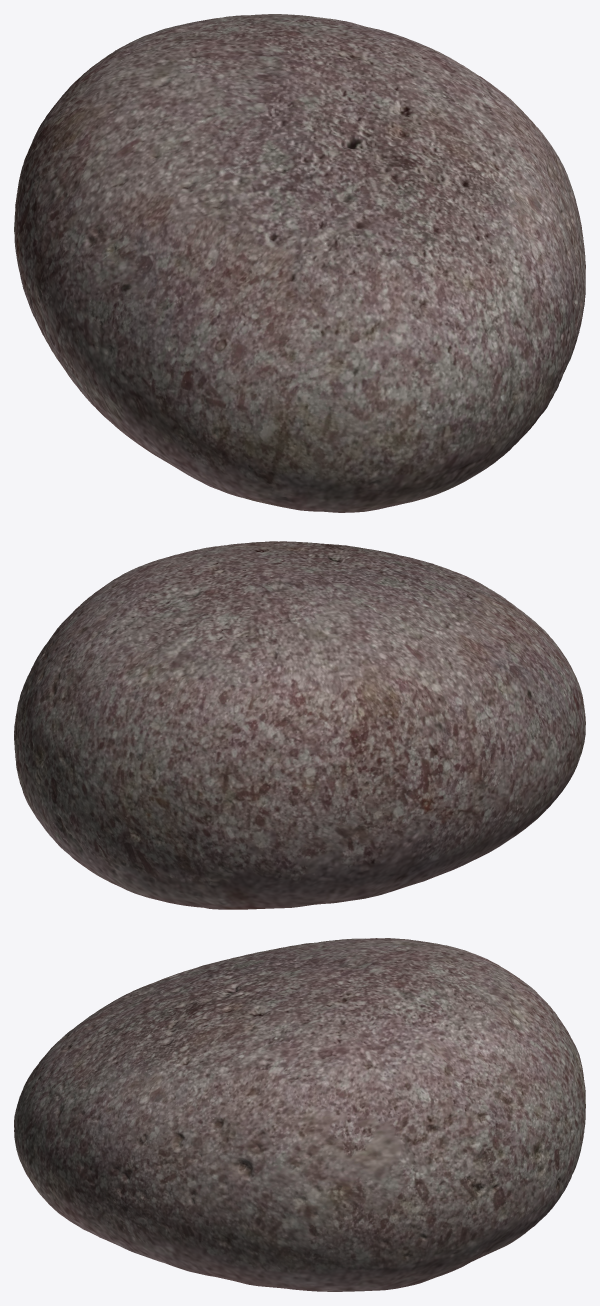
File: rock.glb
3 renders of one model, top to bottom at view 1: azimuth 30°, elevation 25°; view 2: azimuth 150°, elevation 25°; view 3: azimuth 270°, elevation 25°, orthographic. The views are drawn at different scales.
Parts seen in each view (by area): view 1: Object_4; view 2: Object_4; view 3: Object_4.
Part boxes in pixels (x1=…): Object_4: x1=14, y1=14, x2=585, y2=512; Object_4: x1=14, y1=541, x2=585, y2=909; Object_4: x1=14, y1=938, x2=585, y2=1291.
Size of the model in its own units: 0.591 by 0.3582 by 0.6984.
1 material, 1 textured.
